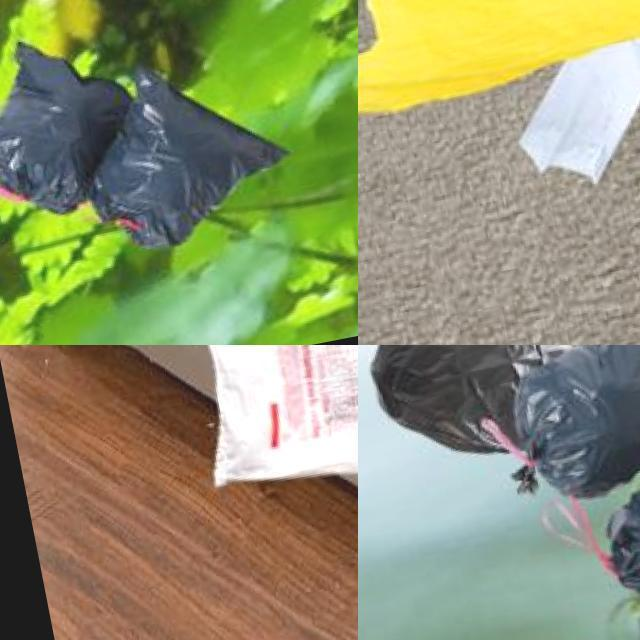waste: (81, 47, 306, 254), (358, 0, 640, 128), (358, 345, 640, 468), (170, 345, 358, 523), (0, 24, 149, 229), (508, 18, 640, 192), (491, 345, 640, 498), (589, 422, 640, 626)
